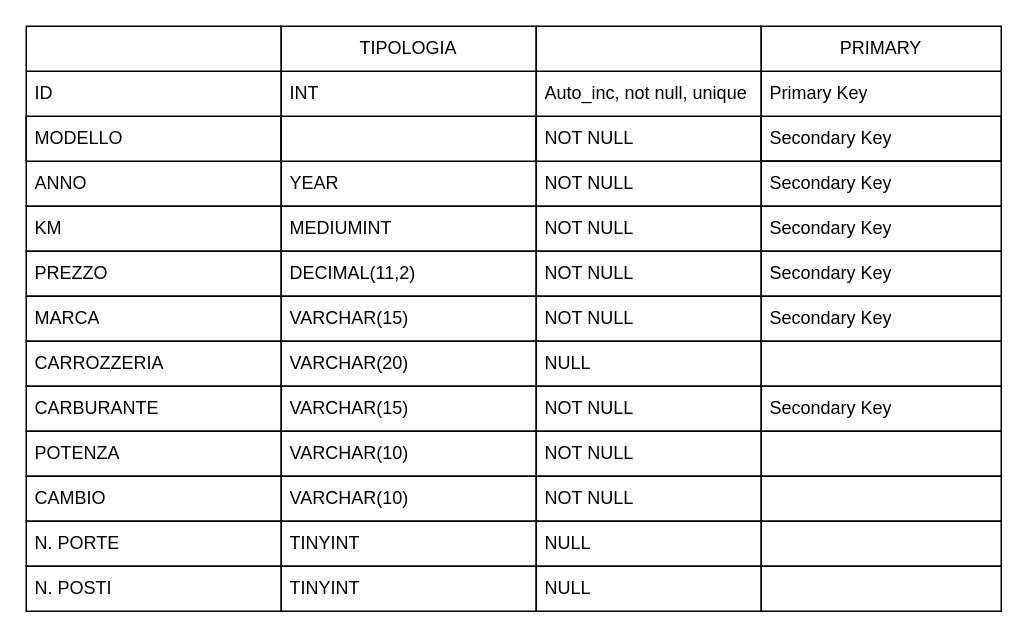
This 1028x638 diagram has some shape labels left out. Each missing label, with the box of its shape:
ATTRIBUTO: (535, 25, 761, 206)
COL: (25, 25, 281, 206)
VARCHAR(50): (280, 115, 536, 161)
